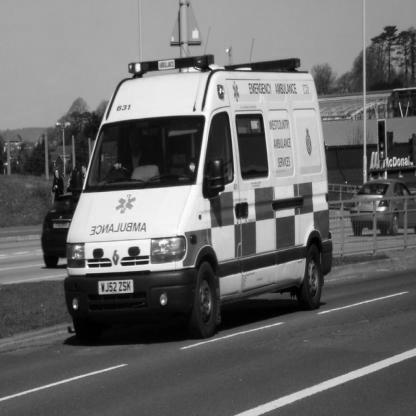ambulance: (67, 47, 340, 341)
